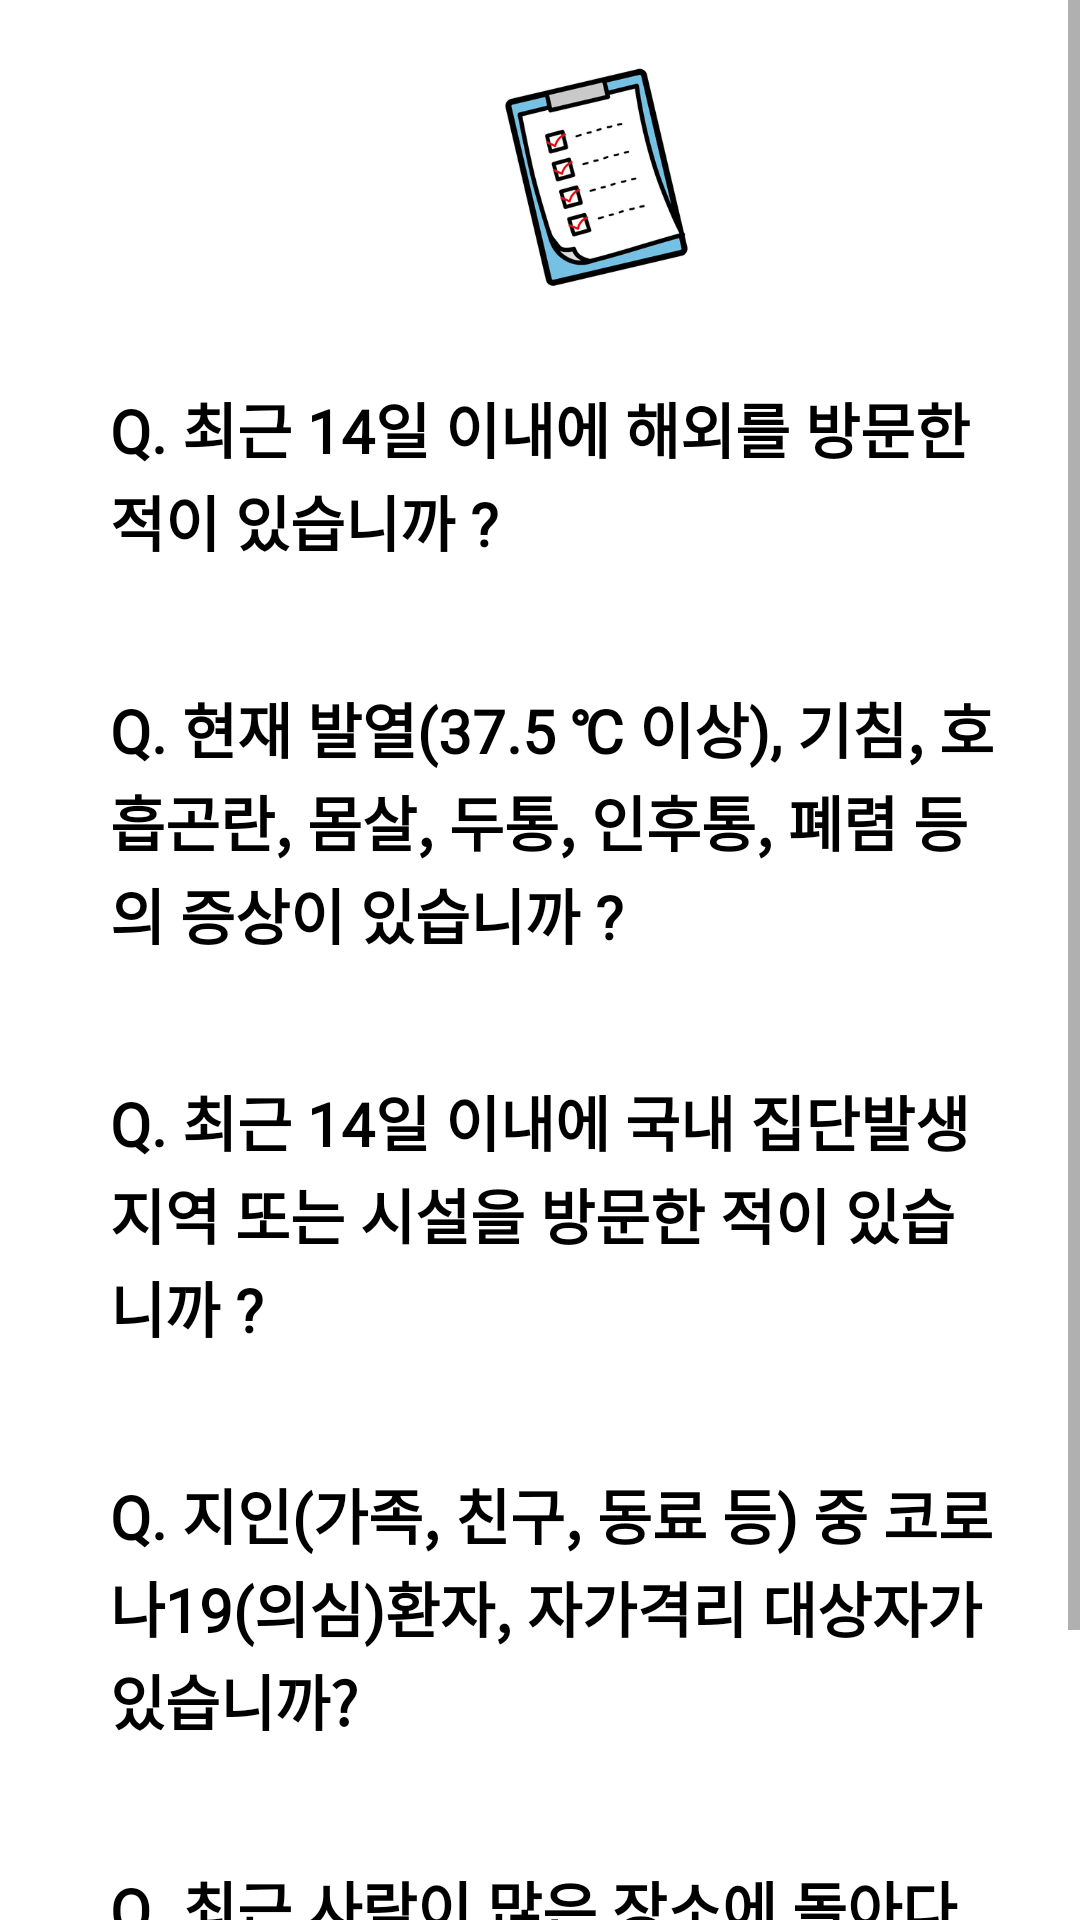

Named icons in this screenshot (1080w x 1920h) and their bounding boxes, (x1=x1, y1=y1, x2=x2, y2=y2):
checklist: (x1=505, y1=68, x2=688, y2=286)
